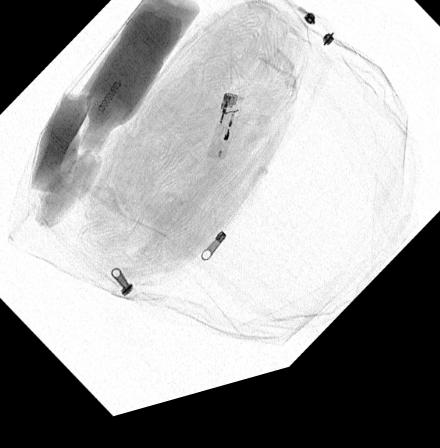Lighter: (205, 105, 243, 172)
